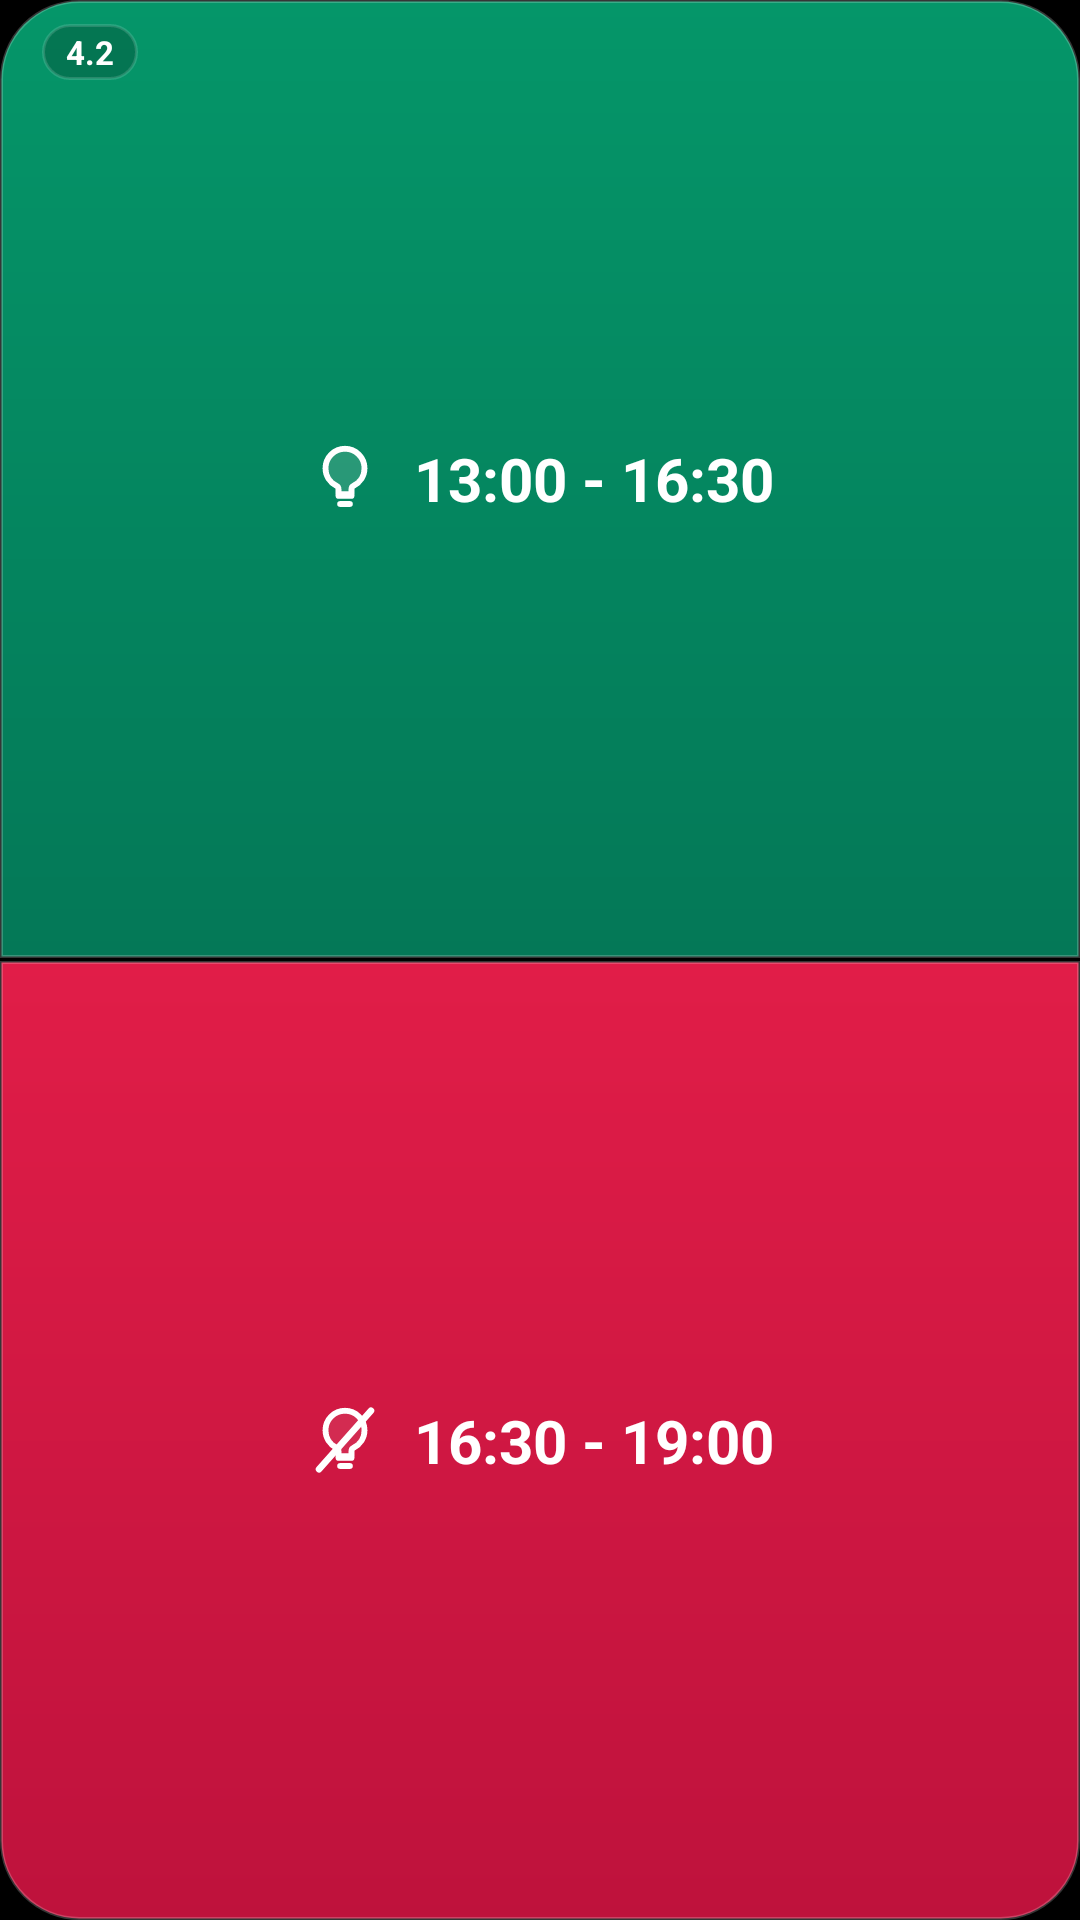

Named icons in this screenshot (1080*1920) and their bounding boxes, (x1, y1, x2, y2):
widget bulb off: (315, 1407, 375, 1473)
widget bulb on: (322, 445, 368, 507)
